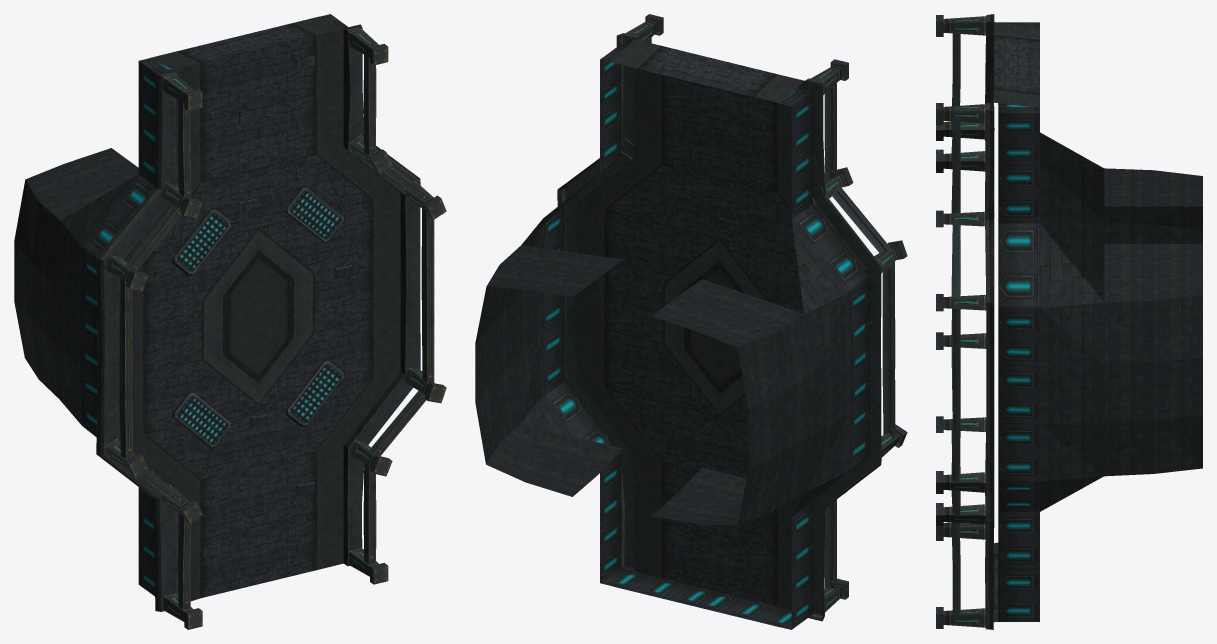
Rendered from tanxian_fuben_257_daqiao02.obj.
The picture shows the model from 3 angles, left to right: view 1: azimuth 30°, elevation 25°; view 2: azimuth 150°, elevation 25°; view 3: azimuth 270°, elevation 25°; orthographic projection. The views are drawn at different scales.
Parts seen in each view (by area): view 1: tanxian_fuben_257_daqiao02; view 2: tanxian_fuben_257_daqiao02; view 3: tanxian_fuben_257_daqiao02.
Boxes of the visible parts, left/top/right/bottom form: tanxian_fuben_257_daqiao02: left=14, top=14, right=446, bottom=629; tanxian_fuben_257_daqiao02: left=475, top=14, right=907, bottom=629; tanxian_fuben_257_daqiao02: left=936, top=14, right=1202, bottom=629.
Size of the model in its own units: 731 by 1156 by 536.
Materials: 6 (6 with a texture image).
